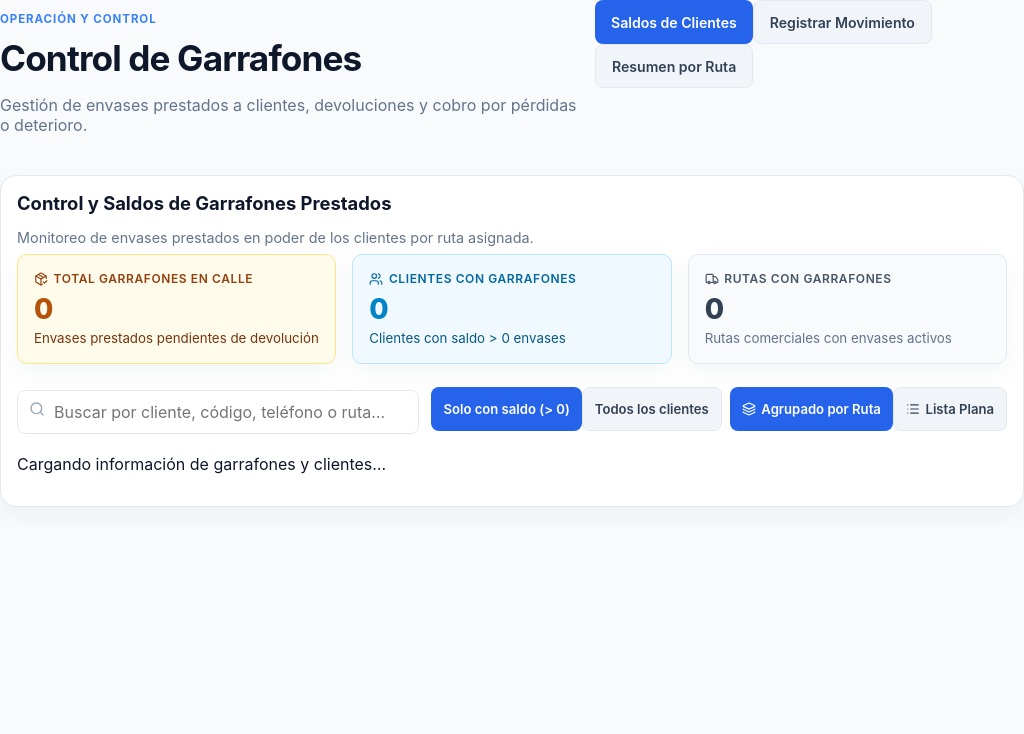
Test: JugsPage › muestra aviso cuando un cliente buscado tiene garrafones en múltiples rutas
This screenshot has width=1024, height=734.
Type "Restaurante Central" into the search field with placeholder "Buscar por cliente, código, teléfono o ruta…" at (218, 412), box [17,390,420,434]
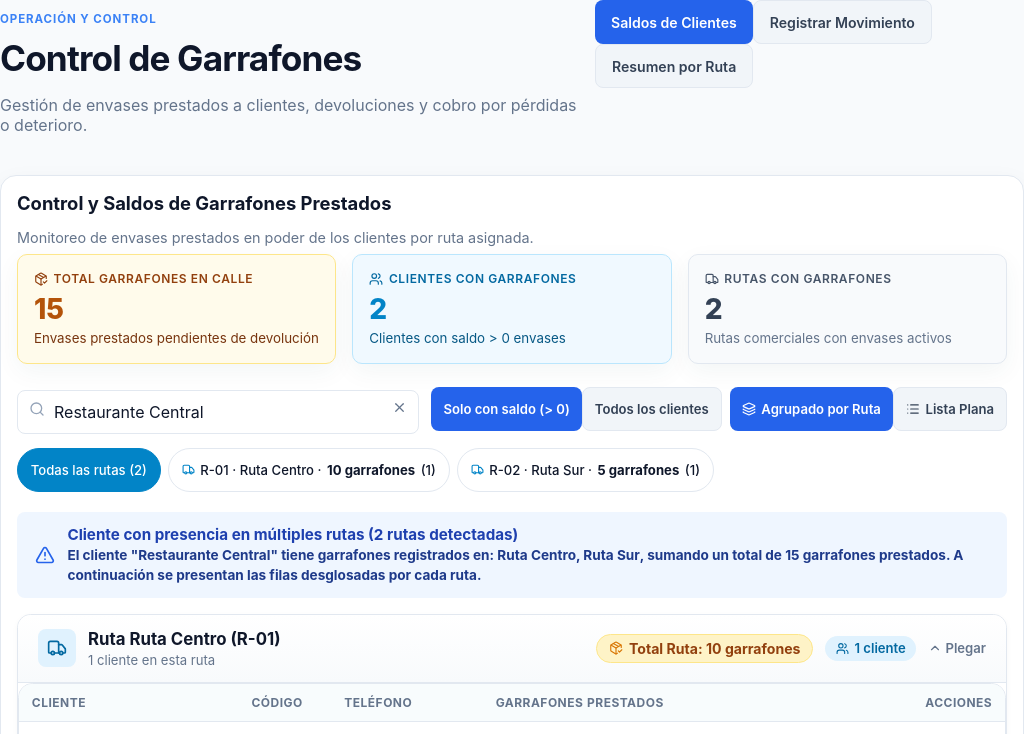
Result: the text "múltiples rutas" is shown at [67,525,374,544]
Result: the text "15 garrafones prestados" is shown at [785,547,946,563]
